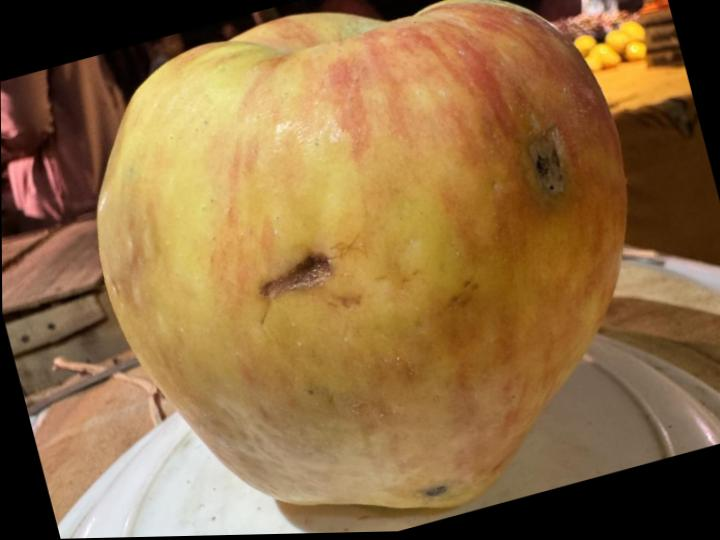apple: (97, 0, 626, 507)
surface_damage: (259, 254, 333, 300), (529, 129, 563, 194)
